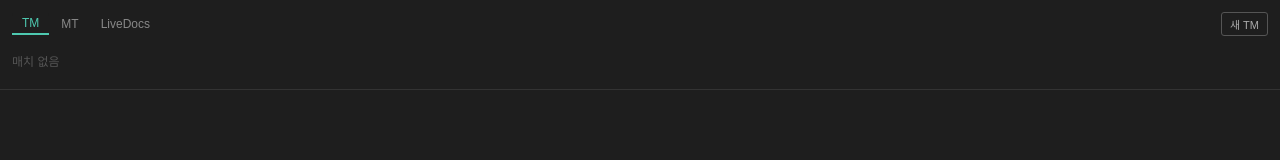
Test: TmPanel › 새 TM 생성 UI › '새 TM' 버튼 클릭 시 생성 폼이 나타난다
Click the button titled "새 TM 만들기". click: (1244, 24)
box: 1221,12 -> 1268,36
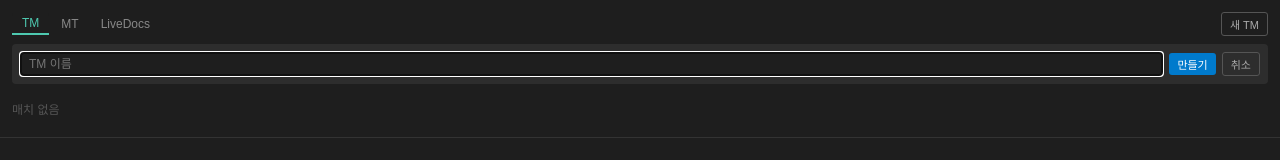
Now the field with placeholder "TM 이름" is shown, box 20,52 -> 1163,76
